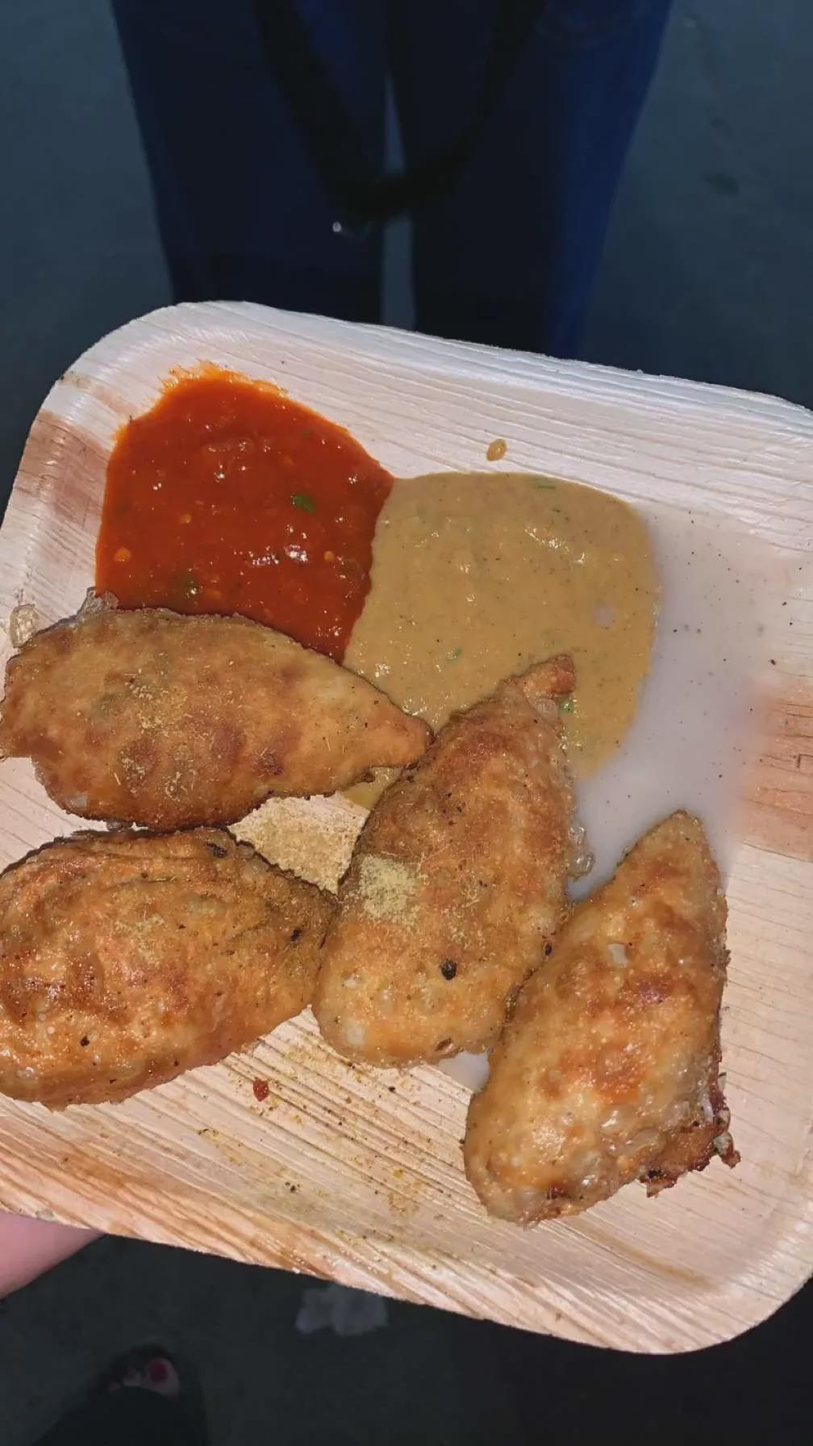momo: (467, 808, 736, 1223), (323, 633, 581, 1065), (0, 832, 345, 1125), (0, 609, 424, 825)
